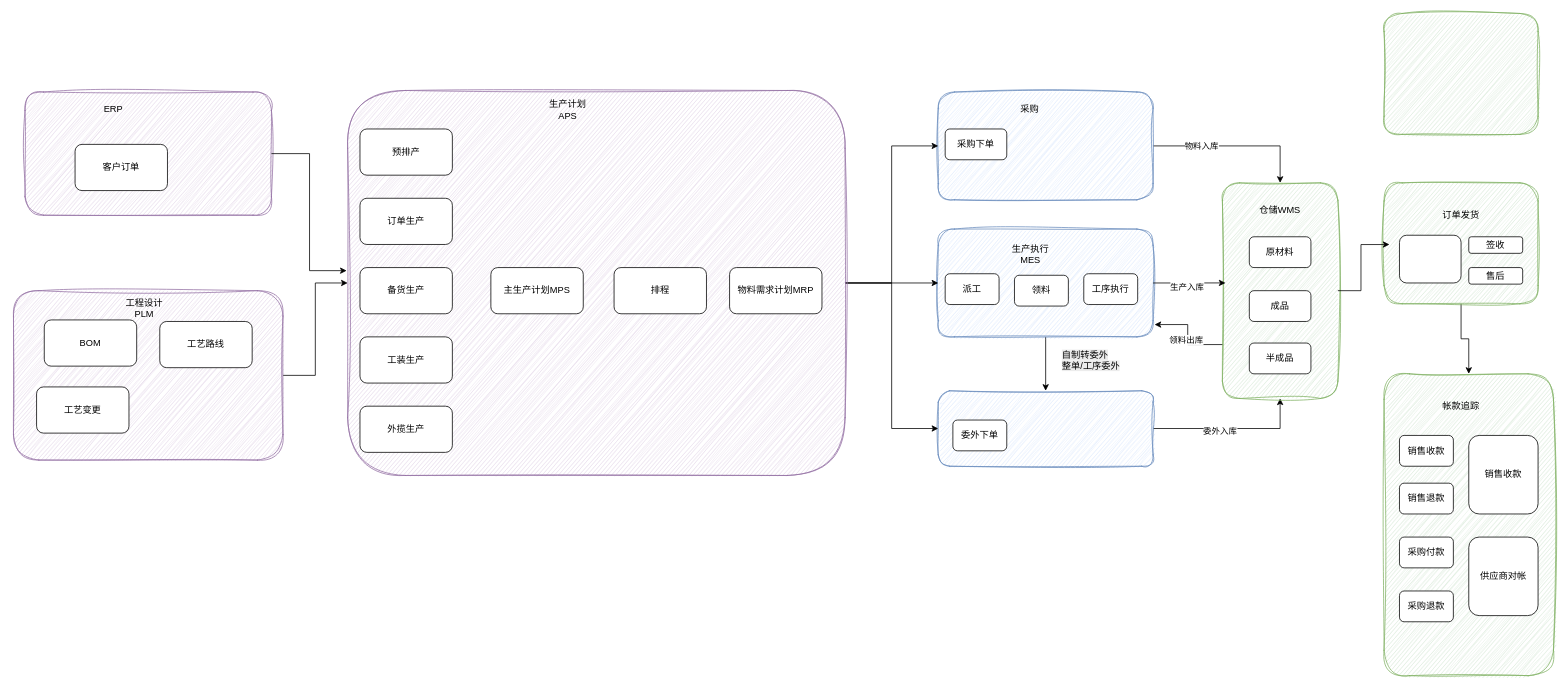
This 1567x689 diagram has some shape labels left out. Each missing label, with the centre of its shape:
"发货" goes at (1430,258).
"质量检查QMS" goes at (1460,73).
